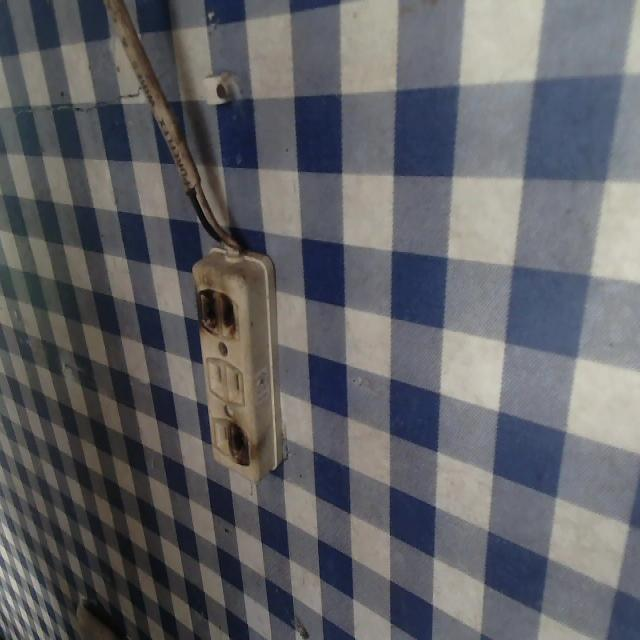-: (195, 283, 239, 348), (224, 413, 251, 467)
